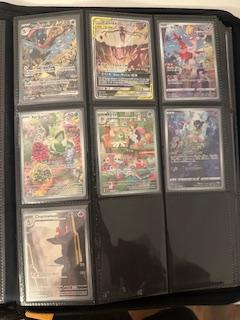card: (21, 203, 97, 309), (17, 107, 89, 208), (11, 10, 85, 108), (86, 9, 155, 106), (92, 104, 161, 201), (153, 12, 221, 106), (161, 105, 228, 194)
